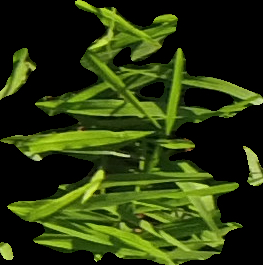grass: (1, 1, 262, 264)
